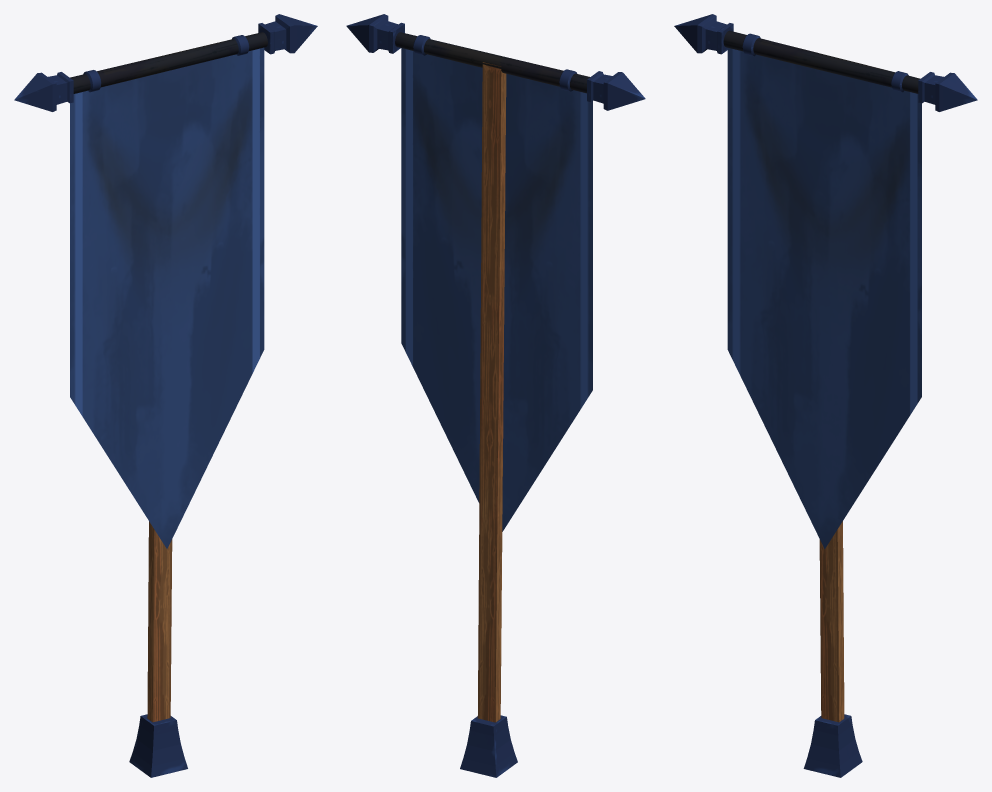
Rendered from Banner_Vertical_2.gltf.
The picture shows the model from 3 angles, left to right: view 1: azimuth 30°, elevation 25°; view 2: azimuth 150°, elevation 25°; view 3: azimuth 330°, elevation 25°; orthographic projection.
Visible parts, largest first — view 1: Banner_Vertical_2; view 2: Banner_Vertical_2; view 3: Banner_Vertical_2.
Part boxes in pixels (<box>): Banner_Vertical_2: <box>14,14,317,777</box>; Banner_Vertical_2: <box>346,14,645,777</box>; Banner_Vertical_2: <box>674,14,977,777</box>.
Bounding box in the file's own units: 1.04 × 2.35 × 0.1525.
4 materials, 4 textured.
